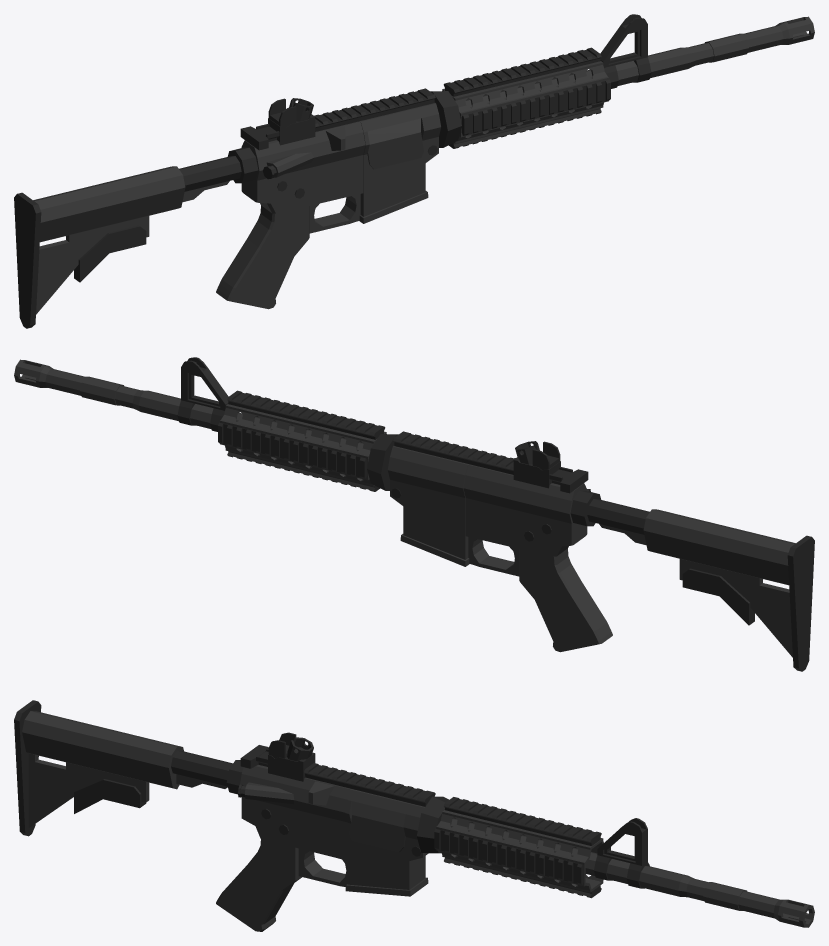
File: SM_Weapon_02.fbx
3 renders of one model, top to bottom at view 1: azimuth 30°, elevation 25°; view 2: azimuth 150°, elevation 25°; view 3: azimuth 330°, elevation 25°, orthographic.
Parts seen in each view (by area): view 1: SM_Weapon_02; view 2: SM_Weapon_02; view 3: SM_Weapon_02.
Boxes of the visible parts, bbox=[...] form: SM_Weapon_02: bbox=[14, 14, 814, 328]; SM_Weapon_02: bbox=[14, 357, 814, 671]; SM_Weapon_02: bbox=[14, 700, 814, 931].
Size of the model in its own units: 0.9841 by 0.2372 by 0.0717.
Materials: 1 (1 with a texture image).
